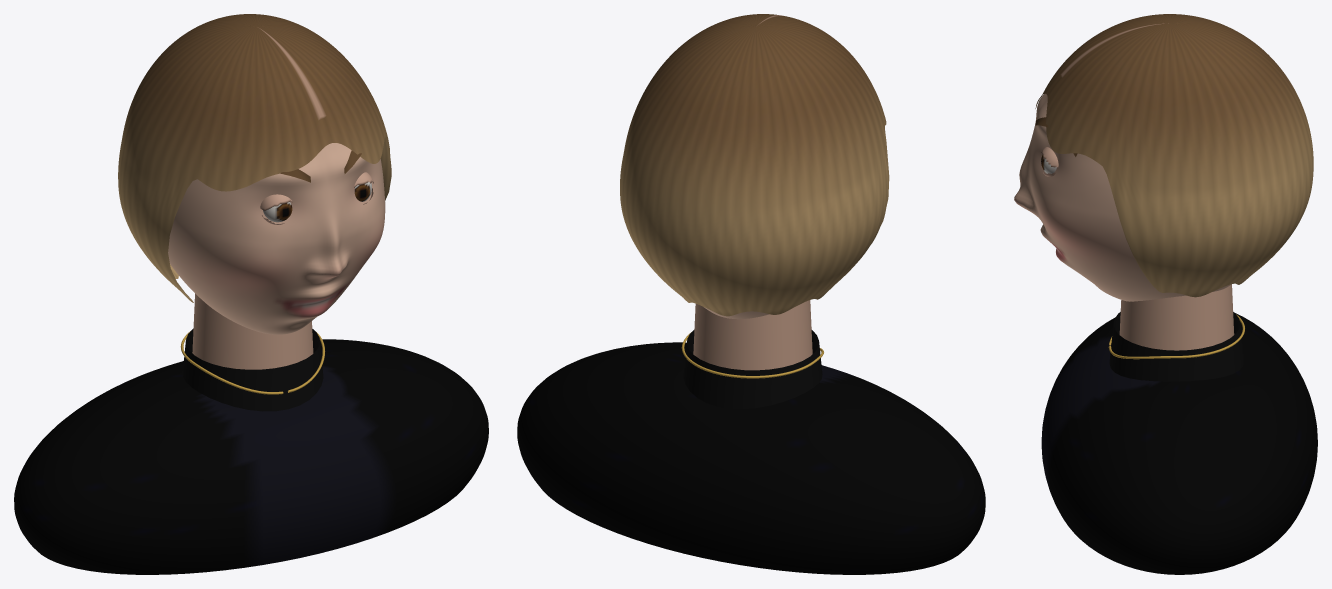
3 renders of one model, left to right at view 1: azimuth 30°, elevation 25°; view 2: azimuth 150°, elevation 25°; view 3: azimuth 270°, elevation 25°, orthographic. The views are drawn at different scales.
Parts seen in each view (by area): view 1: head_bust; view 2: head_bust; view 3: head_bust.
Part boxes in pixels (bbox=[...]): head_bust: bbox=[14, 14, 488, 574]; head_bust: bbox=[517, 14, 985, 574]; head_bust: bbox=[1014, 14, 1317, 574].
Size of the model in its own units: 1.75 by 1.78 by 1.08.
